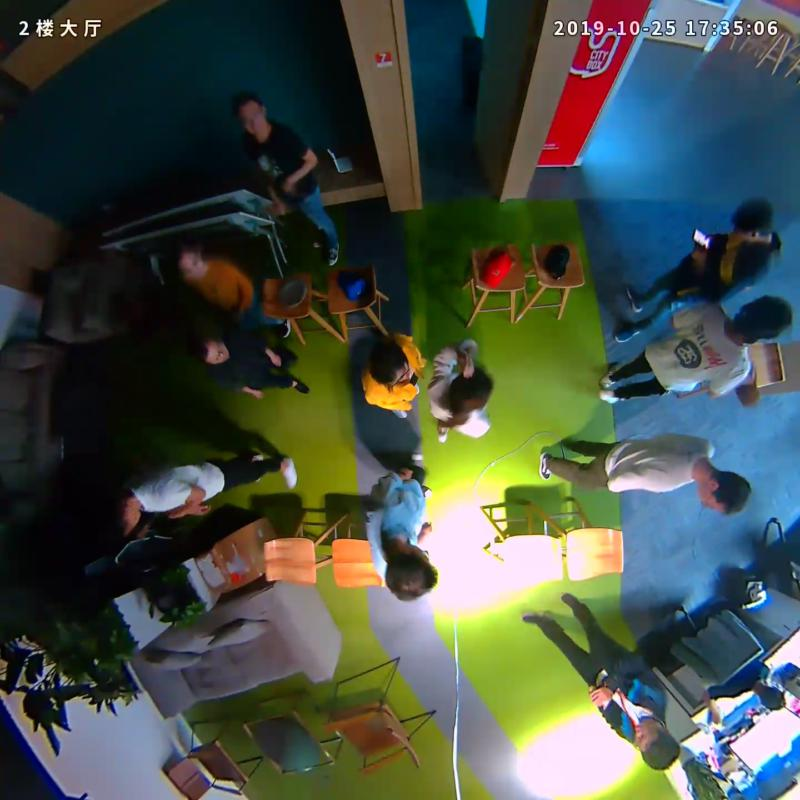head: (385, 543, 438, 603), (733, 293, 791, 344), (698, 469, 752, 516), (635, 716, 682, 770), (450, 364, 495, 415), (95, 490, 143, 537), (730, 198, 776, 244), (368, 338, 411, 386), (172, 240, 206, 281), (234, 95, 266, 138), (194, 336, 231, 369)
